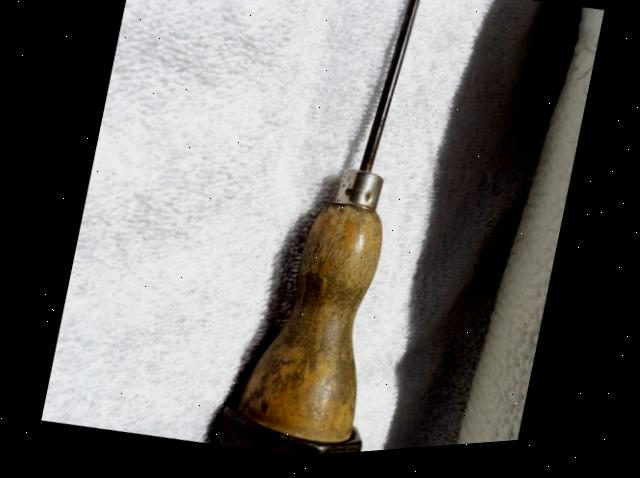ice pick: (210, 0, 454, 466)
